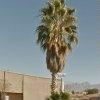Palm tree: (34, 0, 76, 95)
